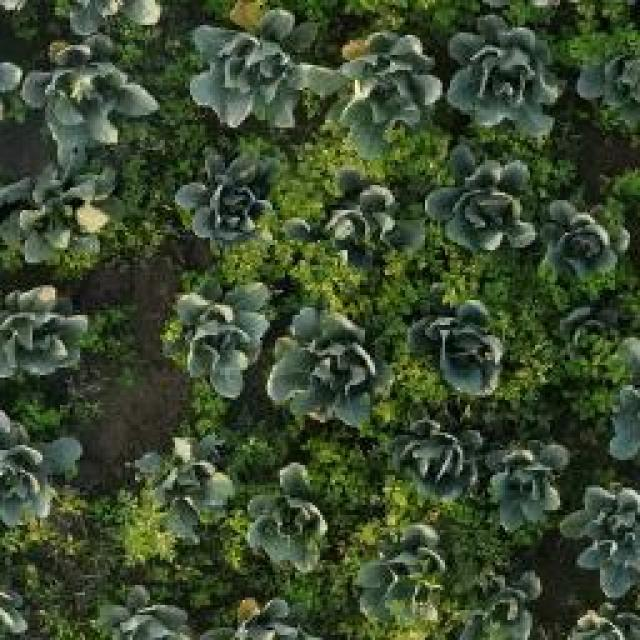cabbage: (190, 1, 314, 141), (16, 36, 160, 155), (320, 27, 440, 156), (446, 13, 564, 144), (267, 305, 386, 427), (171, 145, 296, 256), (160, 262, 272, 380), (430, 140, 540, 258), (130, 434, 238, 554), (0, 162, 119, 266), (0, 405, 92, 532), (475, 425, 574, 539), (239, 462, 333, 576), (408, 293, 506, 402), (345, 518, 443, 626), (0, 284, 98, 388), (303, 180, 408, 273), (547, 194, 639, 300), (388, 411, 482, 505), (567, 477, 640, 598), (455, 566, 543, 640), (552, 302, 624, 362)
